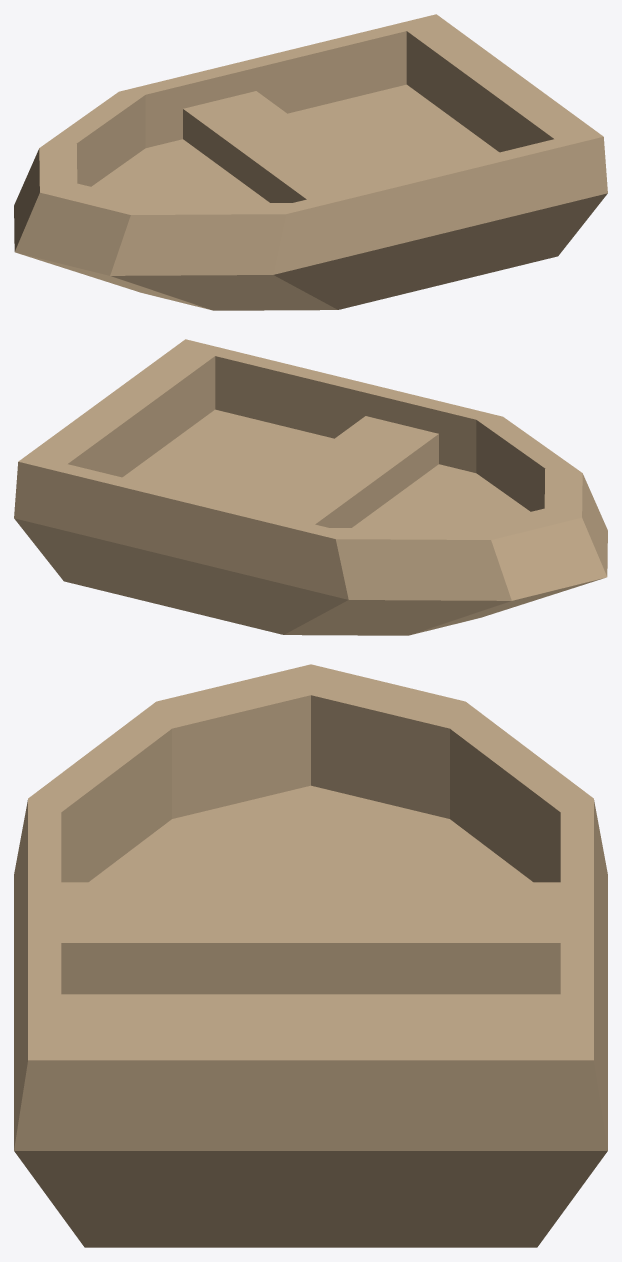
File: newboat.fbx
3 views of the same model, one above another, from view 1: azimuth 30°, elevation 25°; view 2: azimuth 150°, elevation 25°; view 3: azimuth 270°, elevation 25° (orthographic). The views are drawn at different scales.
Visible parts, largest first — view 1: watercraftPack_028:polySurface1; view 2: watercraftPack_028:polySurface1; view 3: watercraftPack_028:polySurface1.
Boxes of the visible parts, x1,y1,x2,y2 form: watercraftPack_028:polySurface1: [14, 14, 607, 310]; watercraftPack_028:polySurface1: [14, 339, 607, 635]; watercraftPack_028:polySurface1: [14, 664, 607, 1247].
Size of the model in its own units: 2.97 by 0.7 by 1.79.
